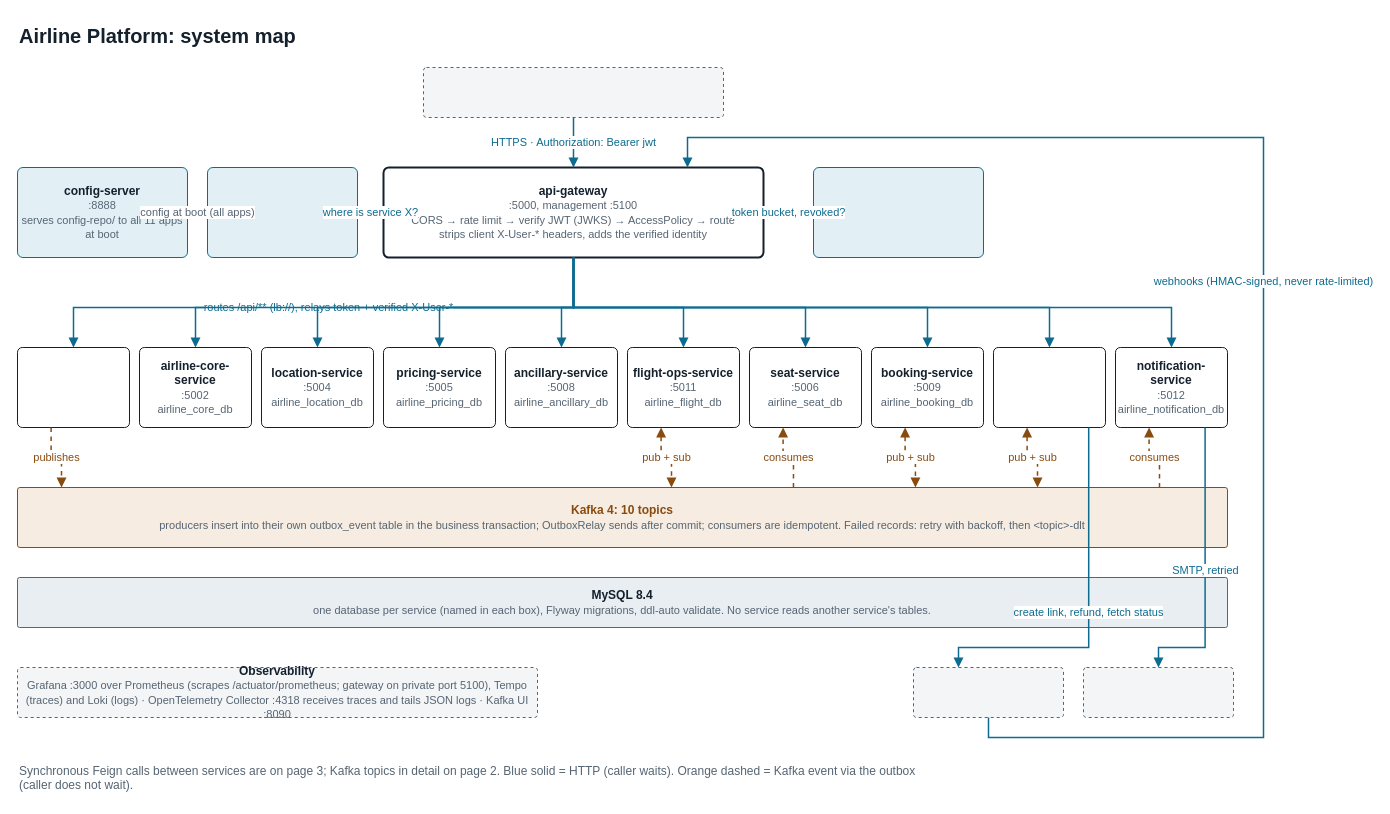
Image size: 1390x814. Some labels were removed from this diagram. Each missing label, with the centre of its shape:
Browser: Angular SPA :5173 locally: pixel 573 92
payment-service :5010 airline_payment_db: pixel 1049 387
Razorpay payment links, refunds API: pixel 988 692
Redis 8 rate-limit buckets (Lua) token revocations @Cacheable reference data: pixel 898 212
service-registry :8761 Eureka every app registers, lb://name lookup: pixel 282 212
SMTP Mailpit :8025 locally: pixel 1158 692
user-service :5001 airline_user_db: pixel 73 387
